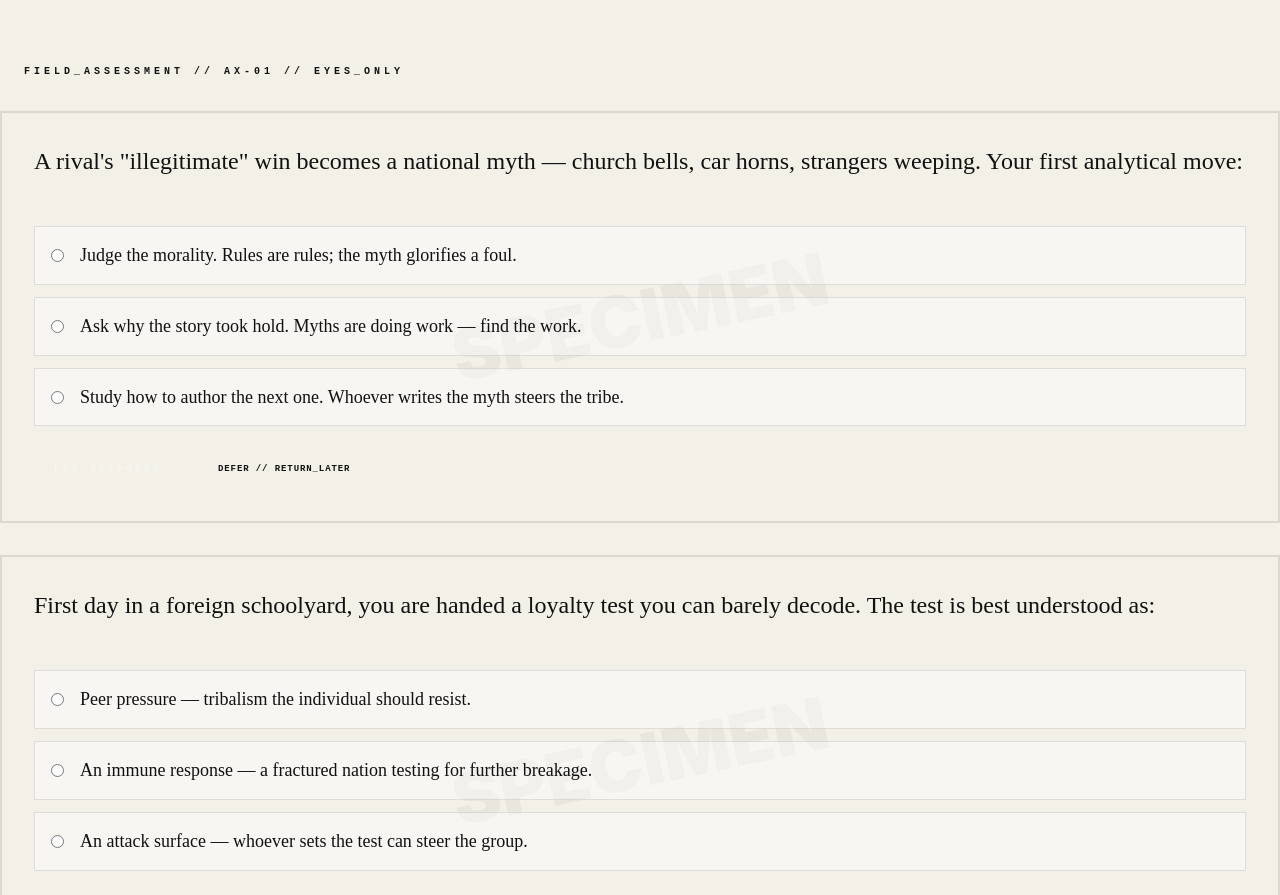
Test: AssessmentCheckpoint › defer collapses the question and resume restores it
Click the button "DEFER // RETURN_LATER".
click(284, 470)  # box [218,463,350,476]
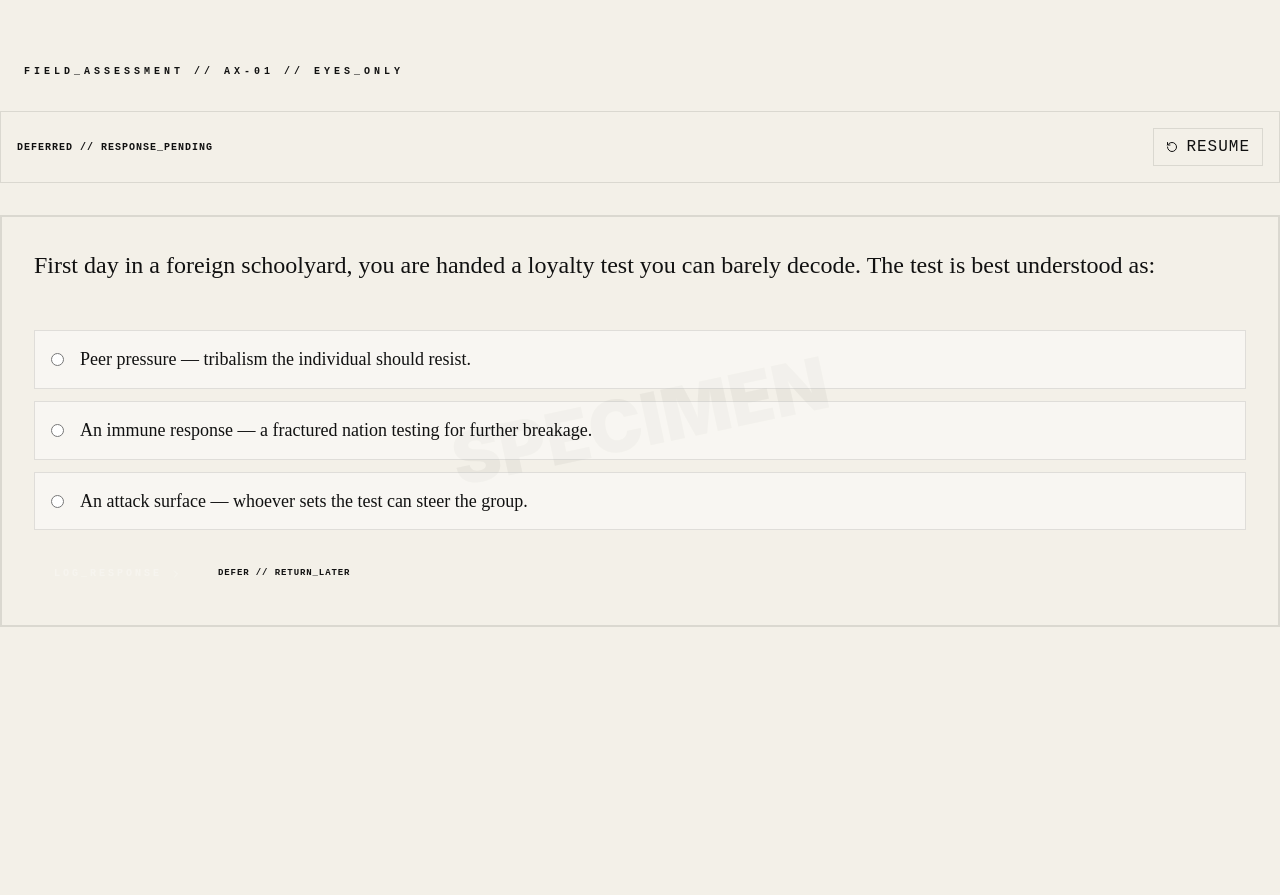
Now the text "DEFERRED // RESPONSE_PENDING" is shown, box [17,140,213,154]
Click the button "RESUME".
click(1208, 147)  # box [1153,128,1263,166]
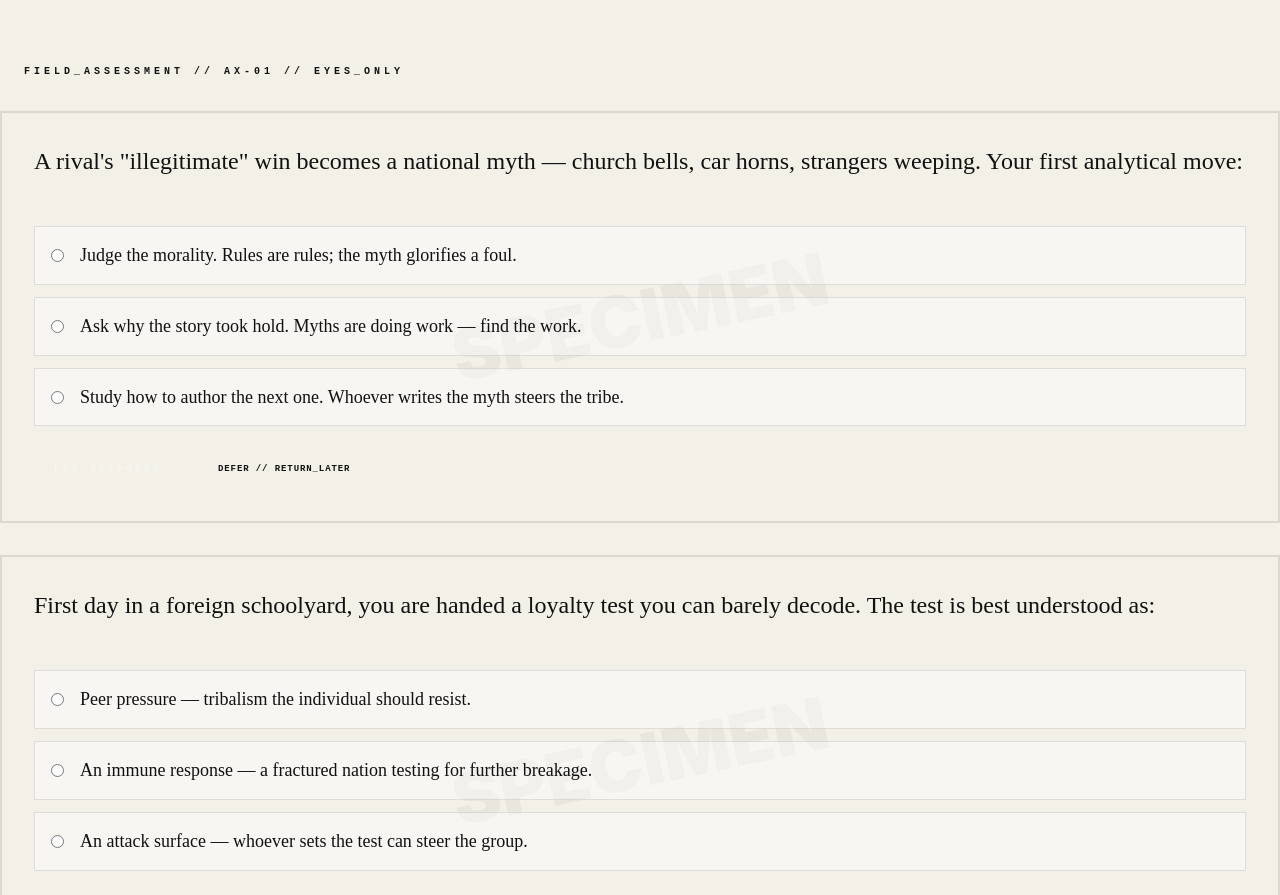
Now the text "DEFERRED" is gone
